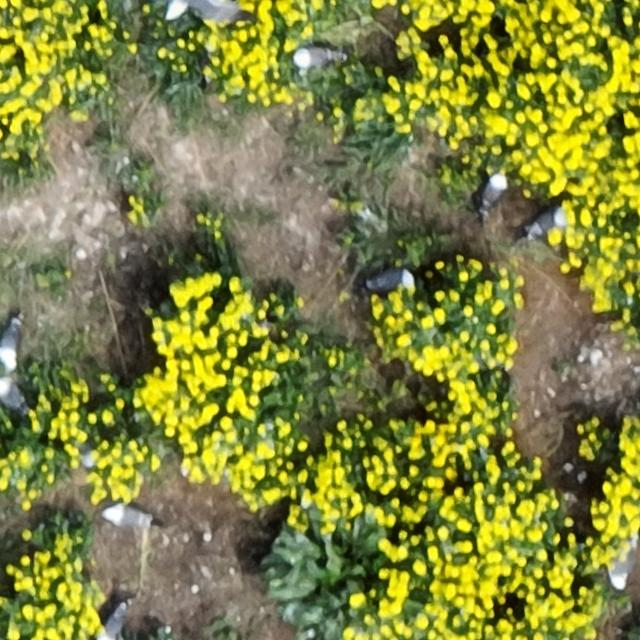umineko: (611, 540, 638, 587), (528, 210, 566, 237), (105, 506, 151, 528), (480, 174, 505, 212), (366, 268, 409, 290), (103, 604, 128, 638), (0, 383, 27, 413), (292, 48, 332, 68), (2, 321, 20, 362)
